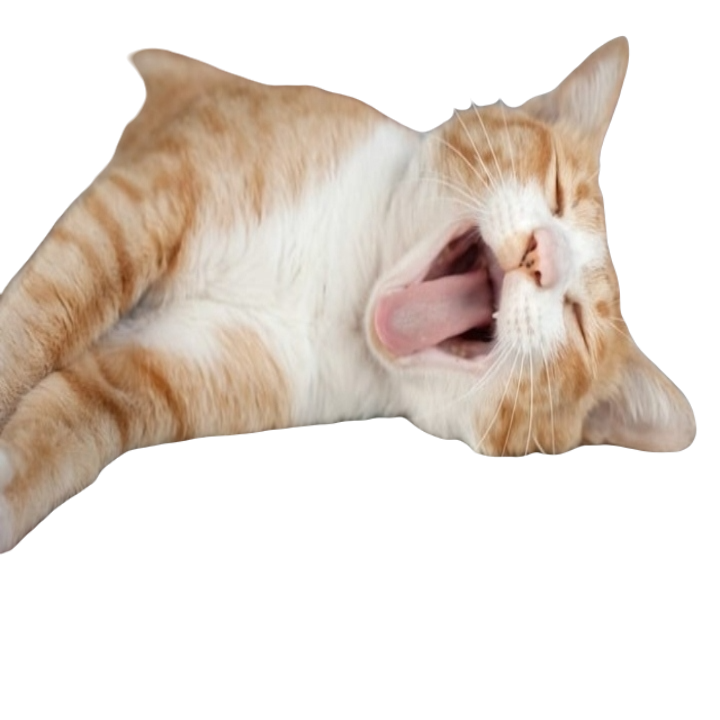Cat: (3, 35, 700, 551)
